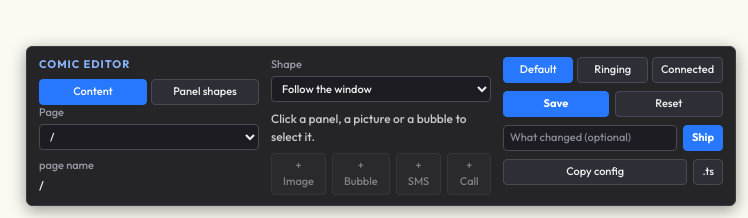
Test case: EditorToolbar › offers the PR the server opened as a link
The width and height of the screenshot is (748, 218).
Click the button "Ship" at {"x": 703, "y": 138}, box [683,125,723,151]
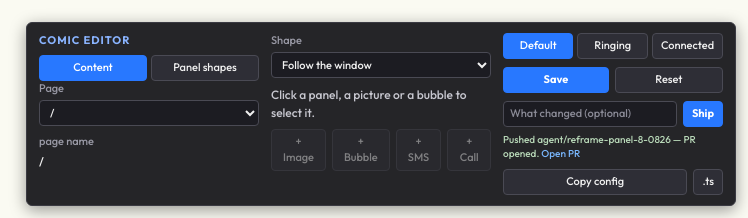
Result: the message shows "PR opened" at [503,133,696,160]
